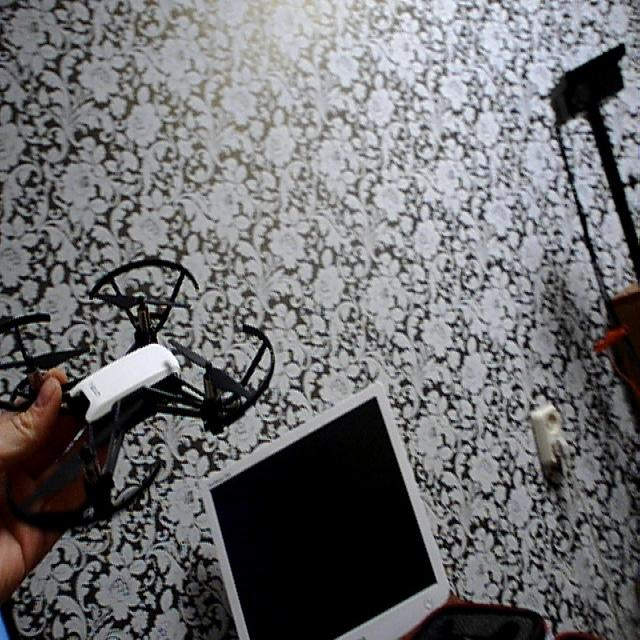drone: (0, 249, 287, 532)
